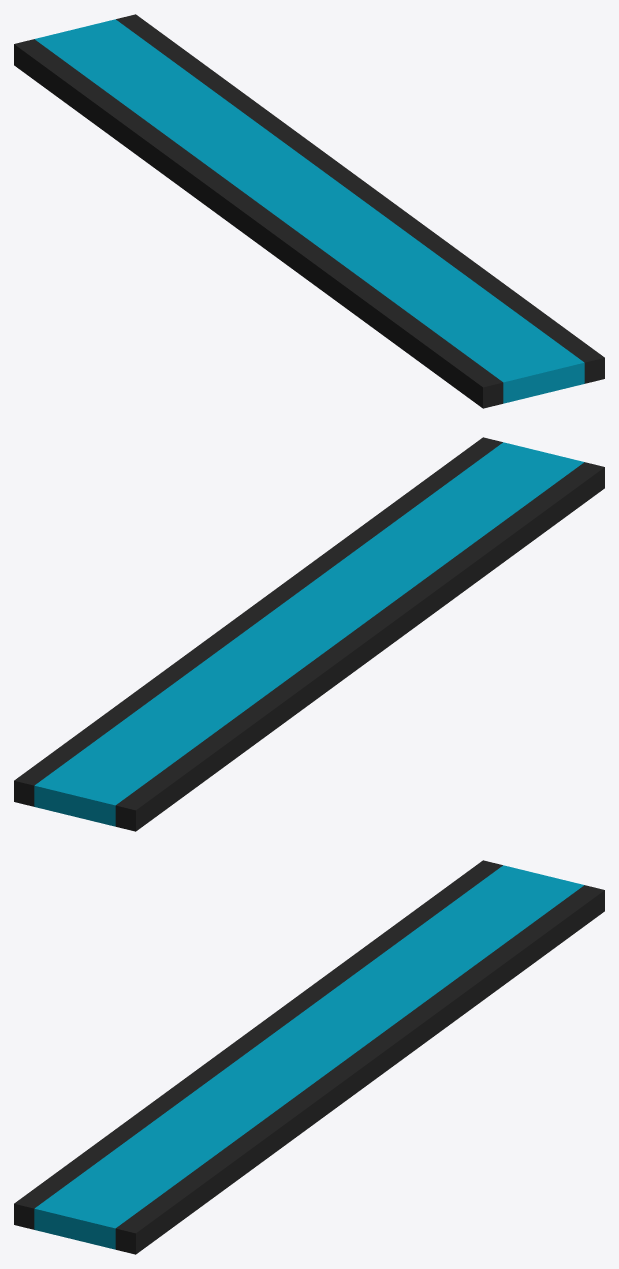
File: EnergyLineOn.obj
3 views of the same model, one above another, from view 1: azimuth 30°, elevation 25°; view 2: azimuth 150°, elevation 25°; view 3: azimuth 330°, elevation 25° (orthographic).
Bounding box in the file's own units: 0.6 × 0.1 × 4.
Materials: 1 (1 with a texture image).
